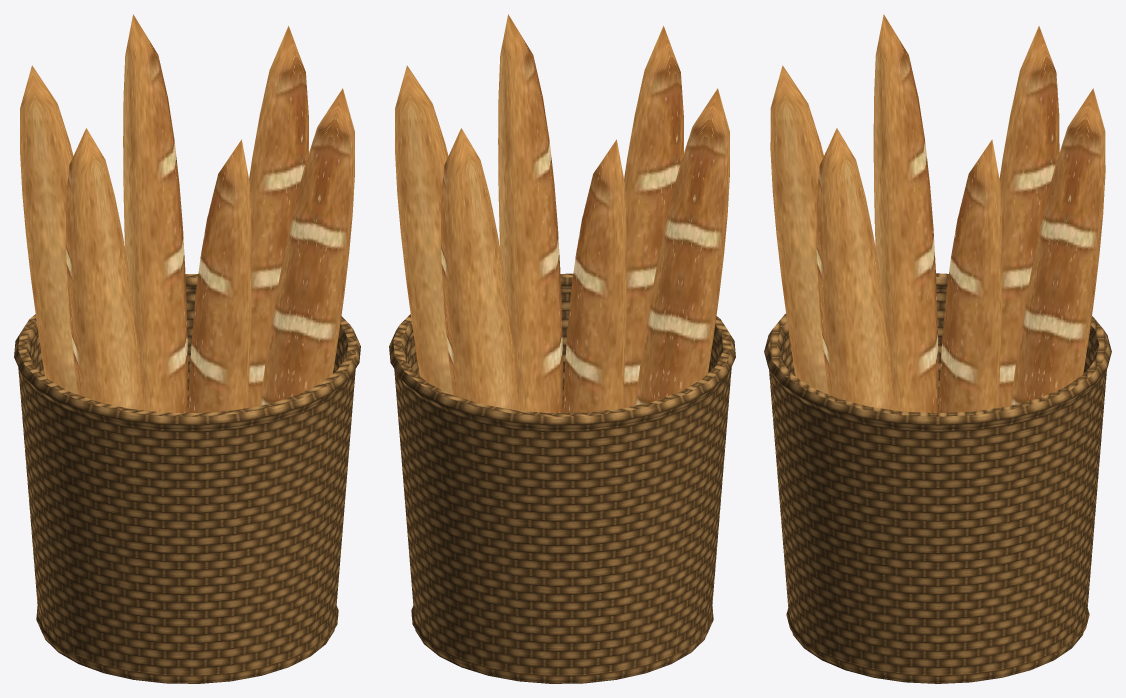
Rendered from vuena-sk-bakery-basket-baguette.glb.
The picture shows the model from 3 angles, left to right: view 1: azimuth 30°, elevation 25°; view 2: azimuth 150°, elevation 25°; view 3: azimuth 270°, elevation 25°; orthographic projection.
Visible parts, largest first — view 1: sk_bakery_basket_baguette; view 2: sk_bakery_basket_baguette; view 3: sk_bakery_basket_baguette.
Part boxes in pixels (x1,y1,x2,y2): sk_bakery_basket_baguette: (14, 14, 360, 683); sk_bakery_basket_baguette: (389, 14, 735, 683); sk_bakery_basket_baguette: (764, 14, 1111, 683).
Size of the model in its own units: 0.351 by 0.6064 by 0.351.
2 materials, 2 textured.
